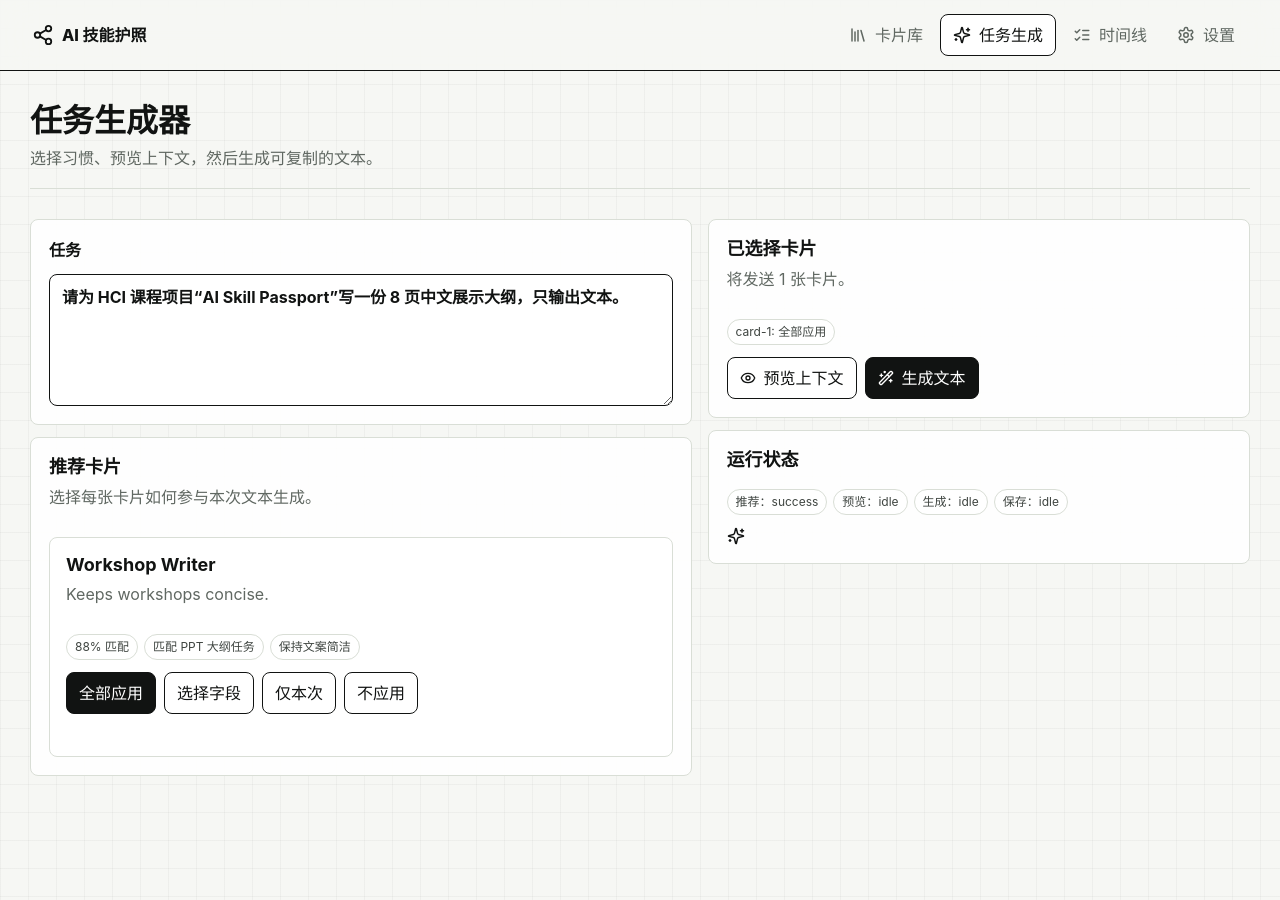
App › ignores stale generate results after selected cards change
Expected: the heading "Workshop Writer" is shown, [66, 554, 216, 575]
Click the button "生成文本".
click(922, 378)  # box [864, 357, 978, 399]
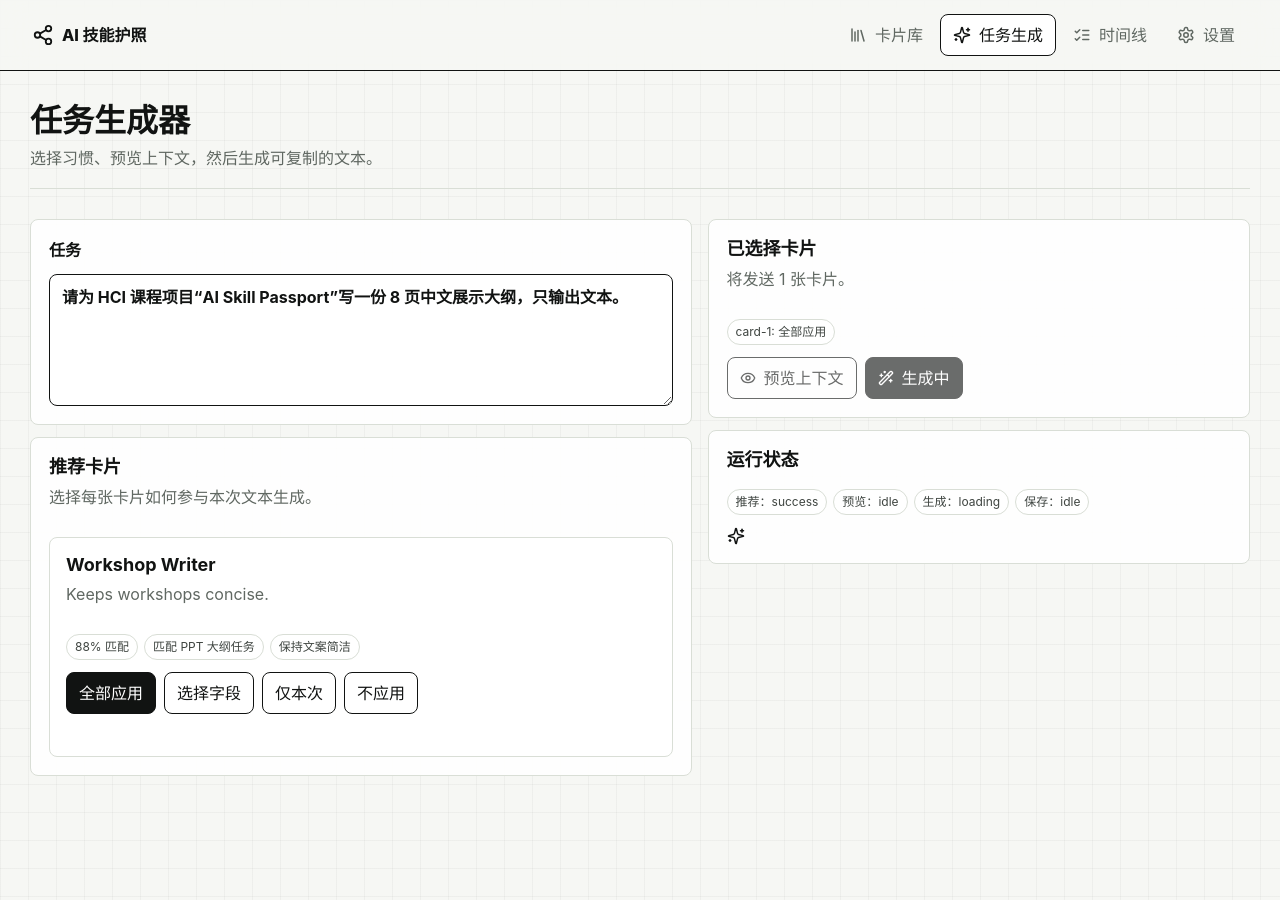
Result: the text "生成：loading" is shown at [914, 489, 1009, 515]
Click the button "不应用".
click(381, 693)  # box [344, 672, 418, 714]
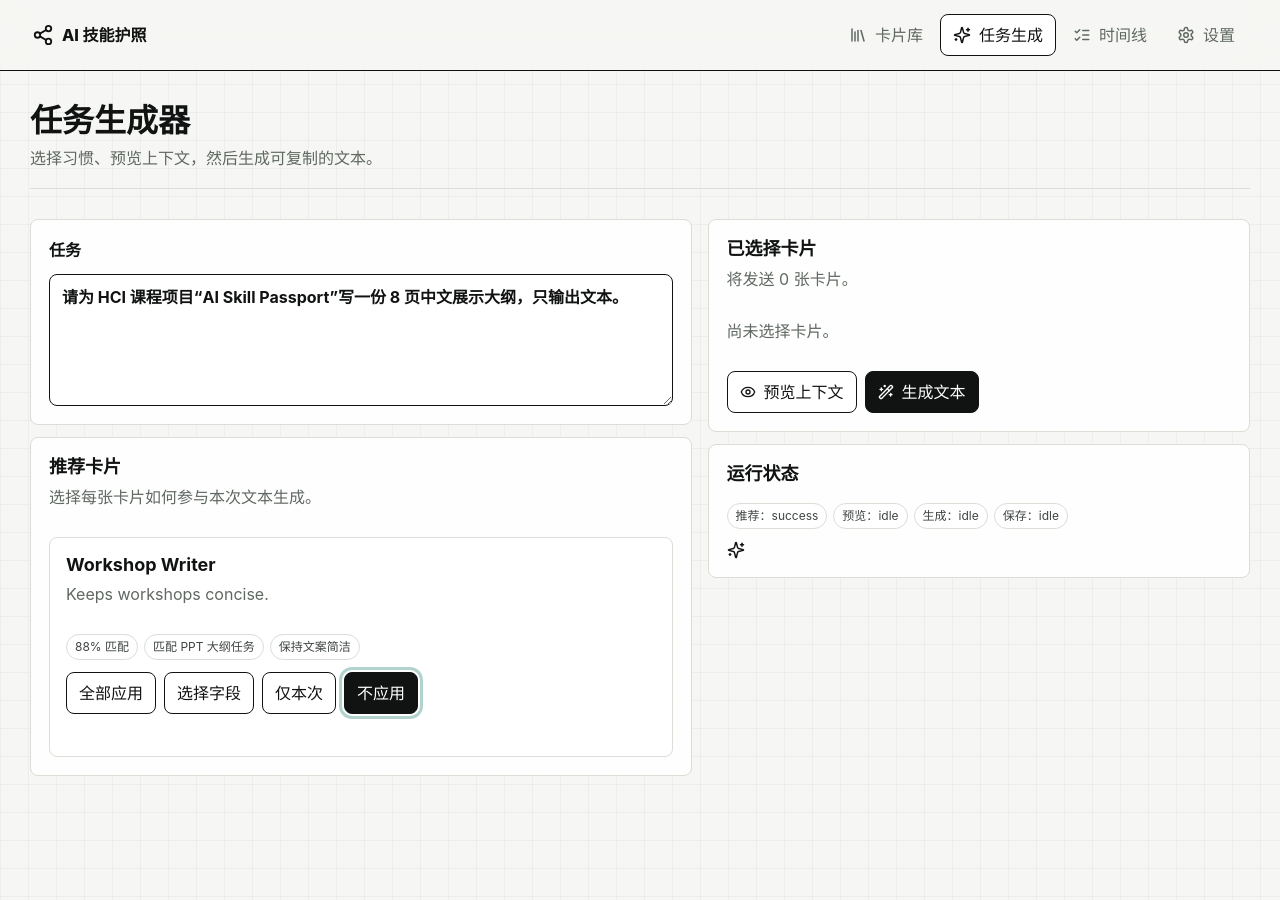
Result: the text "生成：idle" is shown at [914, 503, 988, 529]
